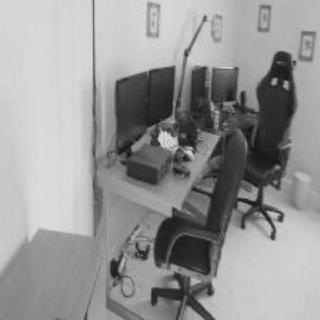other: (35, 5, 143, 63), (99, 170, 177, 228)
